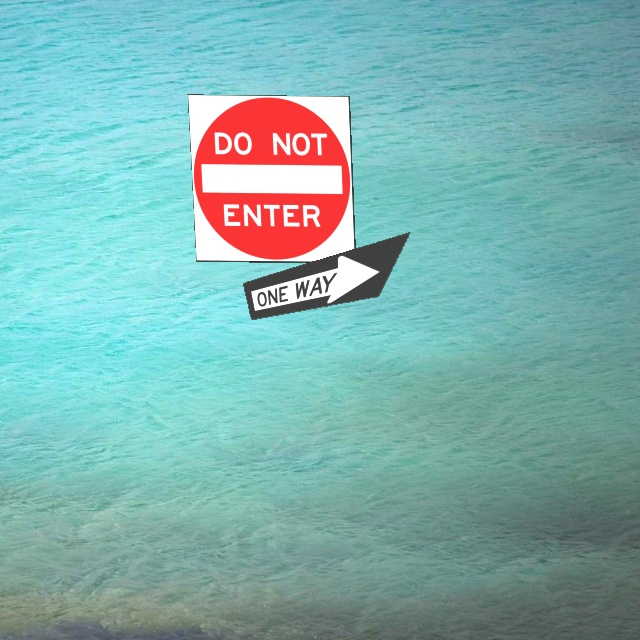DO_NOT_ENTER: (187, 94, 356, 263)
ONE_WAY_ right: (242, 231, 411, 320)
